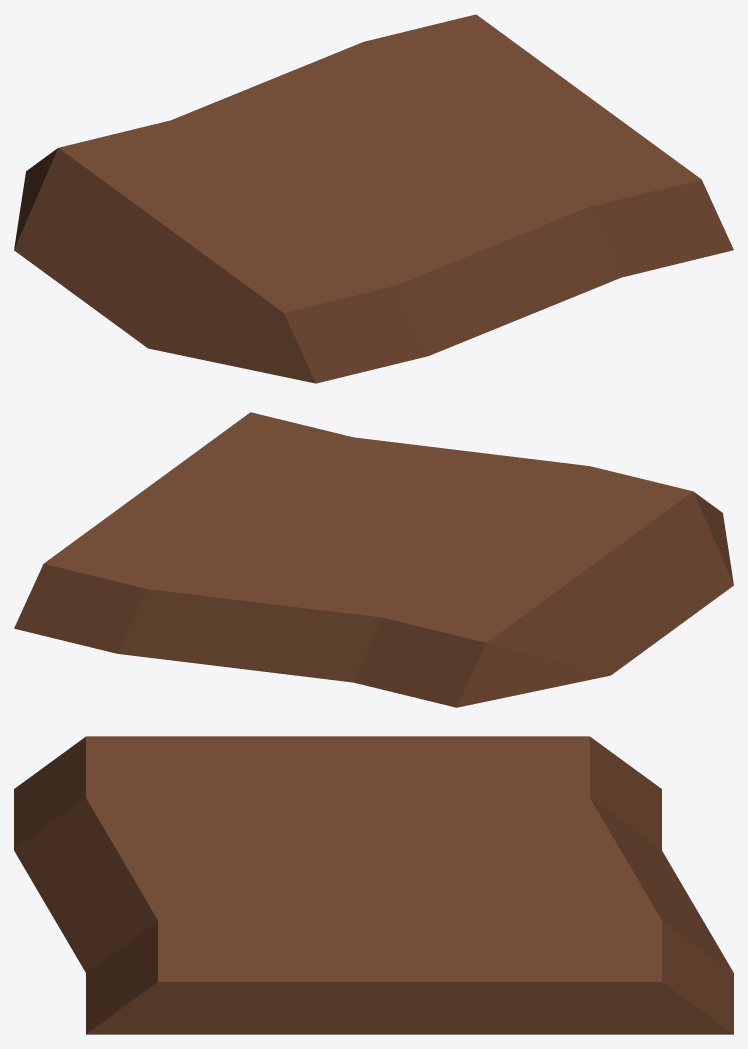
File: crop_row_end.glb
The picture shows the model from 3 angles, top to bottom: view 1: azimuth 30°, elevation 25°; view 2: azimuth 150°, elevation 25°; view 3: azimuth 270°, elevation 25°; orthographic projection. The views are drawn at different scales.
Parts seen in each view (by area): view 1: crops_dirtRowEnd; view 2: crops_dirtRowEnd; view 3: crops_dirtRowEnd.
Boxes of the visible parts, x1=… form: crops_dirtRowEnd: x1=14, y1=14, x2=733, y2=383; crops_dirtRowEnd: x1=14, y1=412, x2=733, y2=707; crops_dirtRowEnd: x1=14, y1=736, x2=733, y2=1034.
Bounding box in the file's own units: 0.6 × 0.05 × 0.62.
